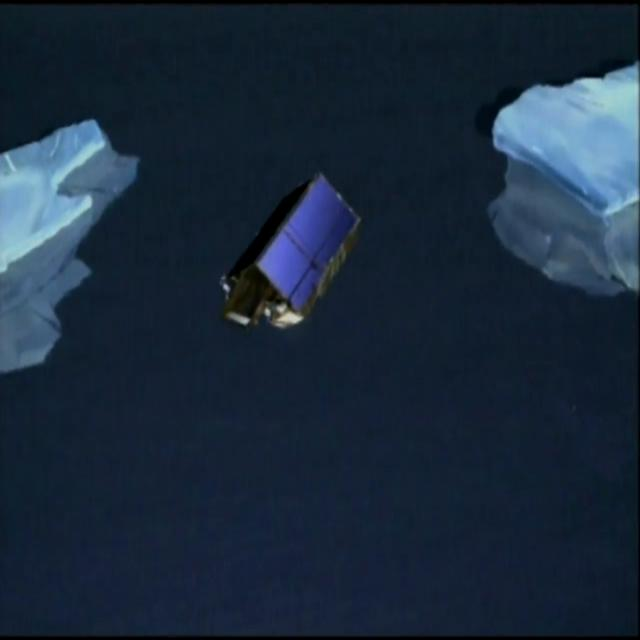medium_debris: (215, 153, 374, 382)
